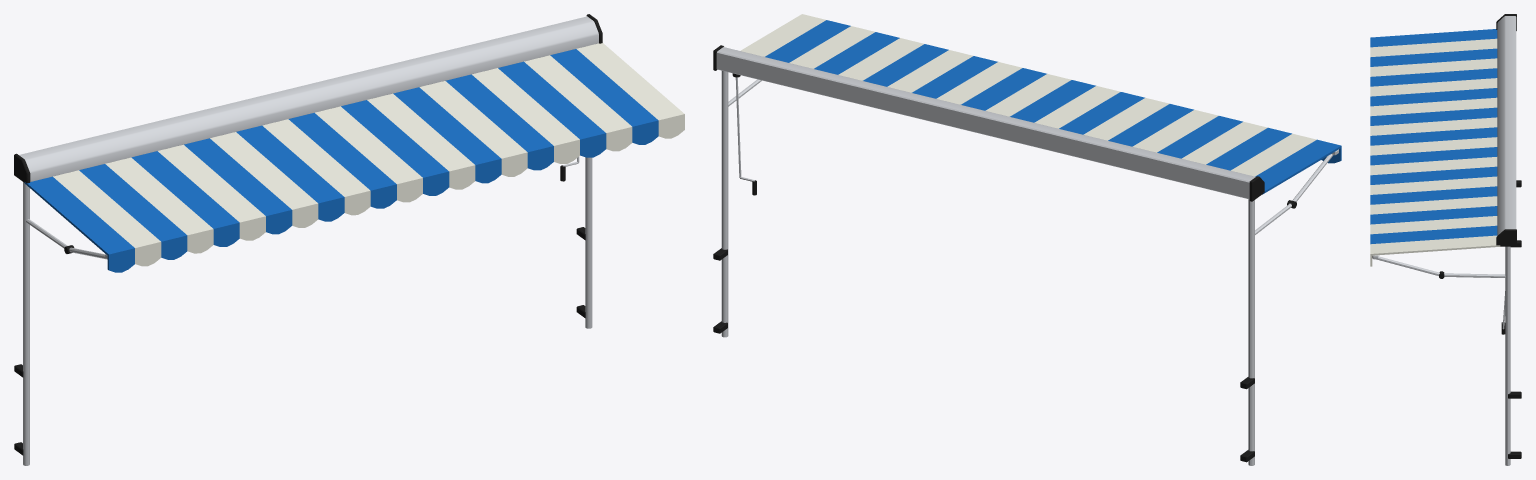
File: toldo_enrollable_grande.glb
3 views of the same model, side by side, from view 1: azimuth 30°, elevation 25°; view 2: azimuth 150°, elevation 25°; view 3: azimuth 270°, elevation 25° (orthographic). The views are drawn at different scales.
Parts seen in each view (by area): view 1: pieza_tramo, pieza_punta_izq, pieza_punta_der; view 2: pieza_tramo, pieza_punta_izq, pieza_punta_der; view 3: pieza_tramo, pieza_punta_der, pieza_punta_izq.
Boxes of the visible parts, x1=… form: pieza_tramo: x1=67, y1=28, x2=632, y2=259; pieza_punta_izq: x1=14, y1=143, x2=161, y2=465; pieza_punta_der: x1=539, y1=14, x2=684, y2=328; pieza_tramo: x1=762, y1=26, x2=1291, y2=188; pieza_punta_izq: x1=1204, y1=133, x2=1341, y2=465; pieza_punta_der: x1=713, y1=14, x2=850, y2=337; pieza_tramo: x1=1370, y1=34, x2=1516, y2=234; pieza_punta_der: x1=1370, y1=211, x2=1521, y2=465; pieza_punta_izq: x1=1370, y1=14, x2=1521, y2=247.
Size of what is drawn, in the model's own units: 3.4 by 1.74 by 1.
